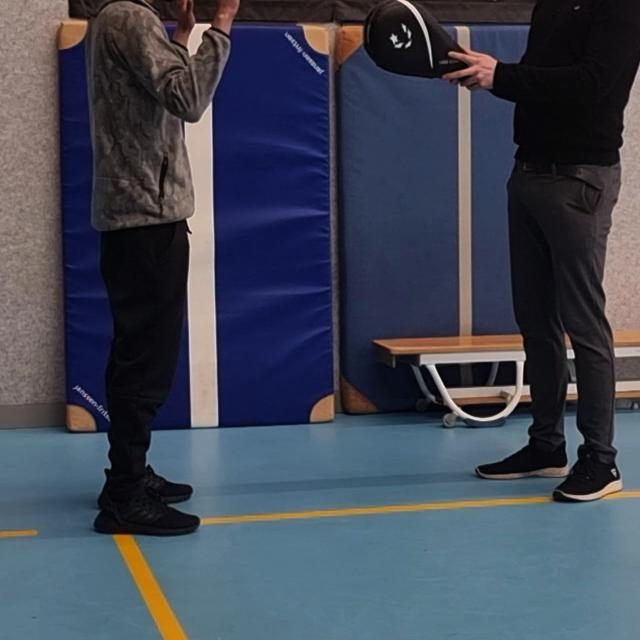paddle: (363, 0, 474, 80)
